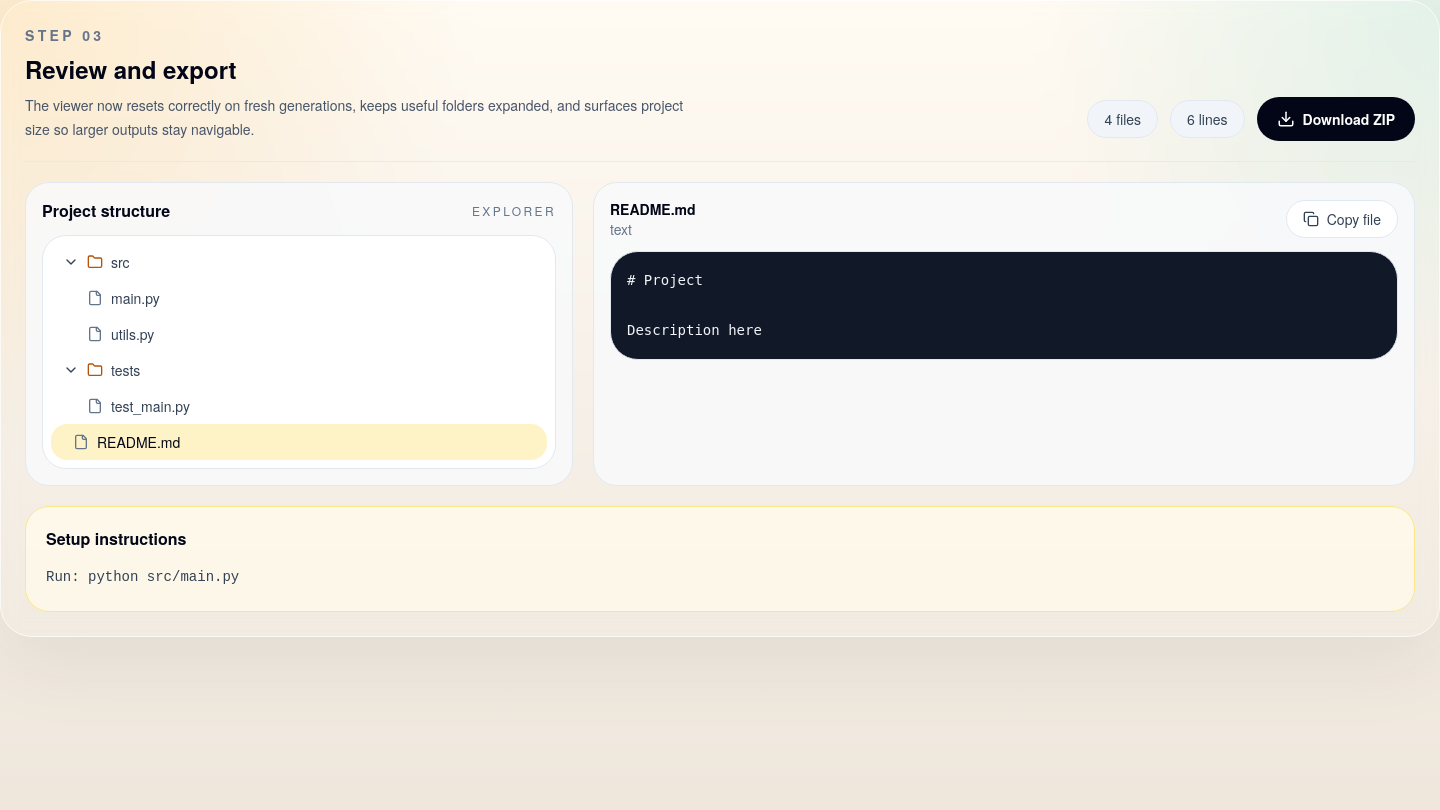
ProjectViewer Component › Download Project › should show error on download failure
Click the button "Download ZIP": (1336, 119) [1257,97,1415,141]
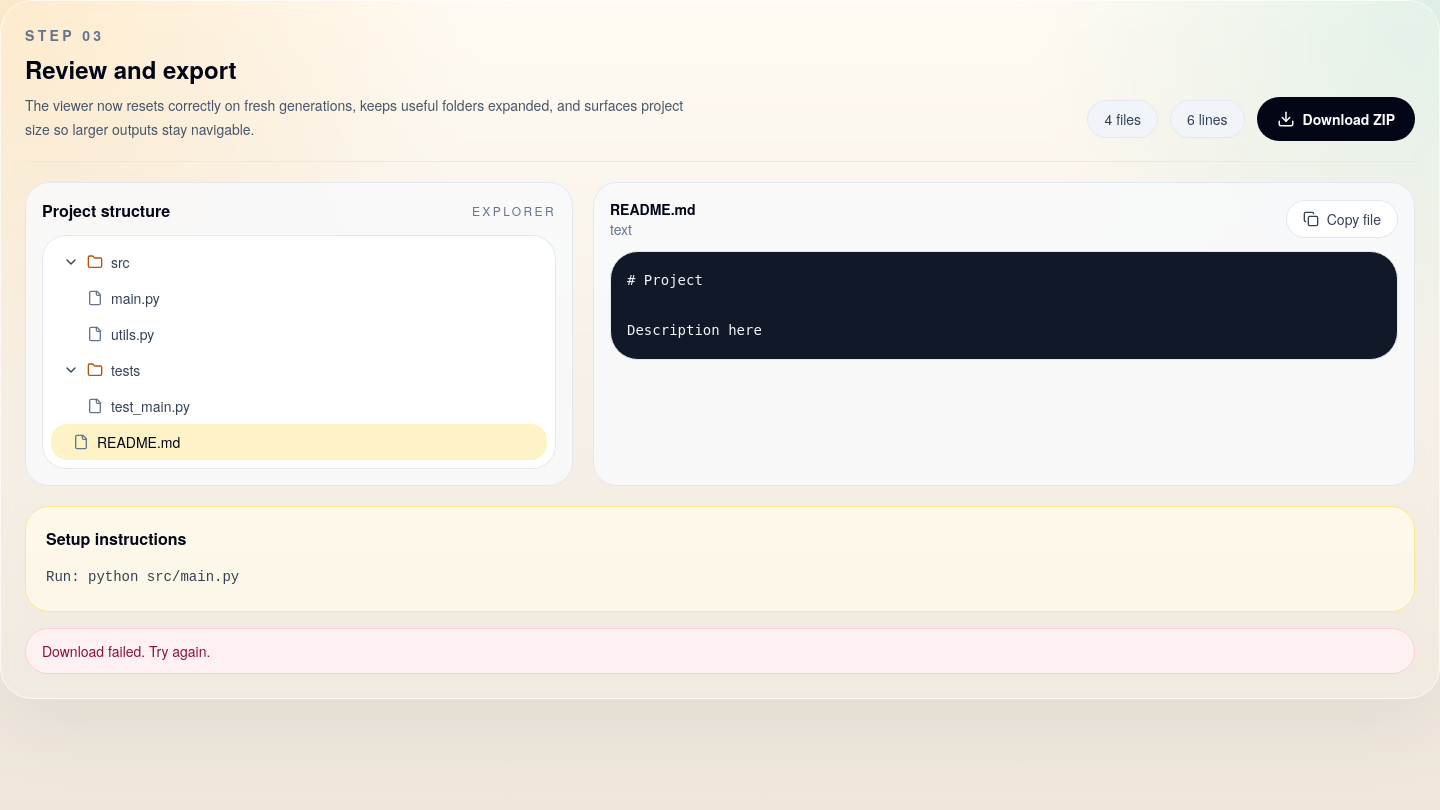
Expected: the text "Download failed. Try again." is shown, [25,628,1415,674]
